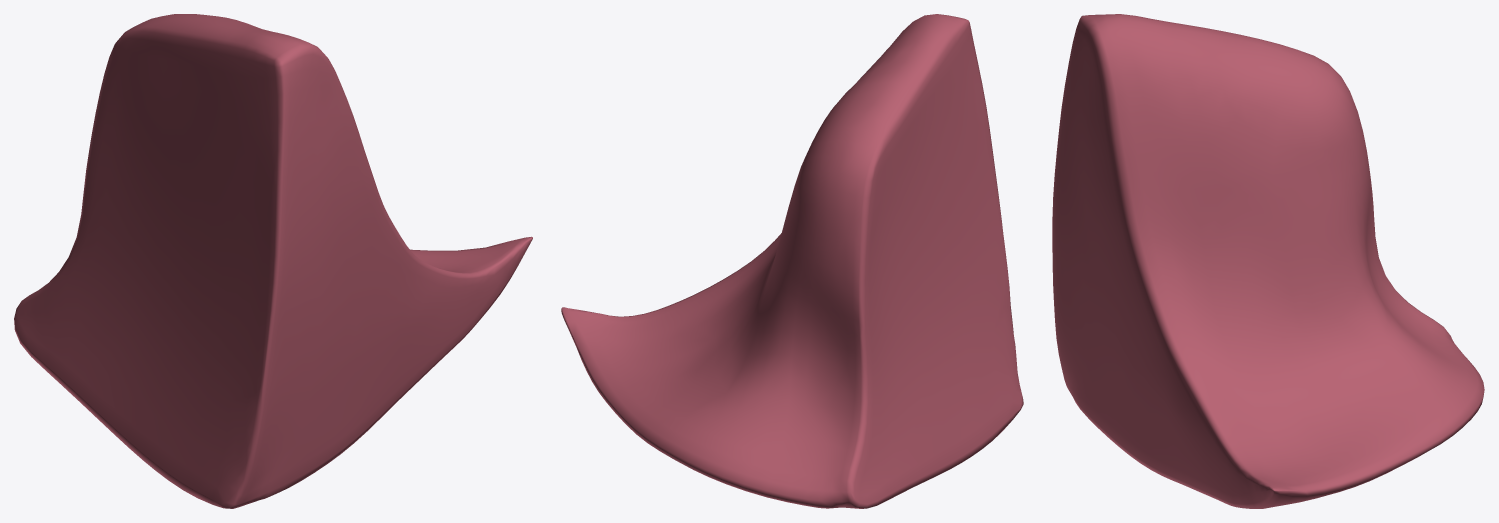
3 renders of one model, left to right at view 1: azimuth 30°, elevation 25°; view 2: azimuth 150°, elevation 25°; view 3: azimuth 270°, elevation 25°, orthographic. The views are drawn at different scales.
Visible parts, largest first — view 1: 肝左外叶下段（第3段）; view 2: 肝左外叶下段（第3段）; view 3: 肝左外叶下段（第3段）.
Part boxes in pixels (x1,y1,x2,y2): 肝左外叶下段（第3段）: [14, 14, 532, 508]; 肝左外叶下段（第3段）: [561, 14, 1023, 508]; 肝左外叶下段（第3段）: [1052, 14, 1484, 508].
Bounding box in the file's own units: 0.1111 × 0.1105 × 0.1044.
